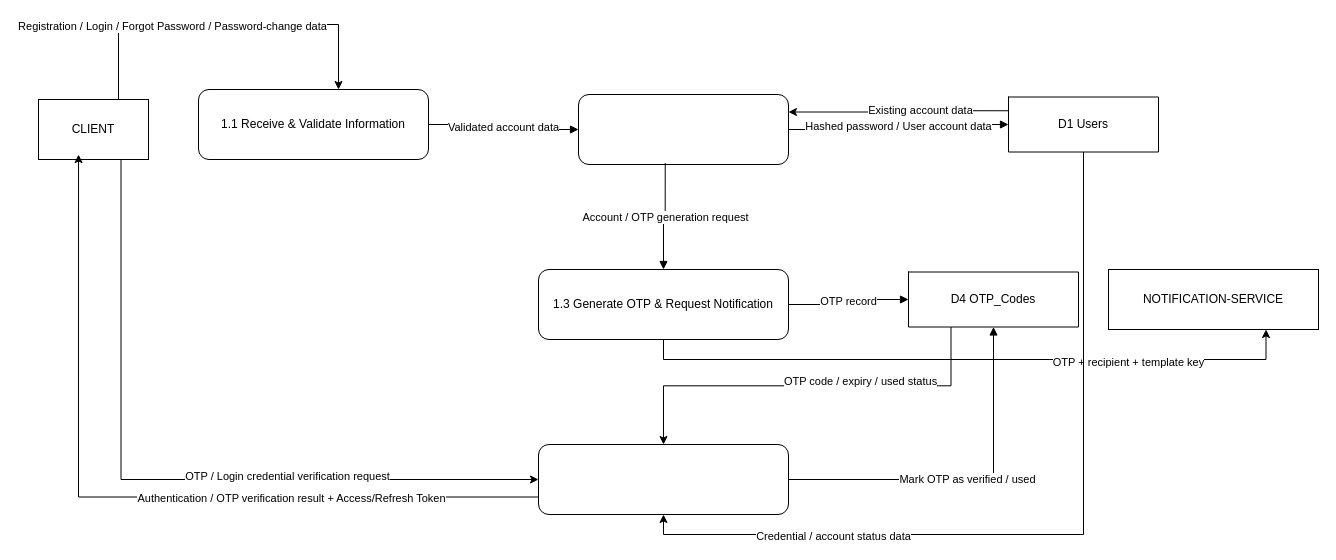
This 1336x560 diagram has some shape labels left out. The shapes that lost their labels are listed below. From the top down, each one's centre as x and y in pixels, then its label:
At pixel 683 129: "1.2 Hash & Store User".
At pixel 663 479: "1.4 Verify OTP & Issue Token".
